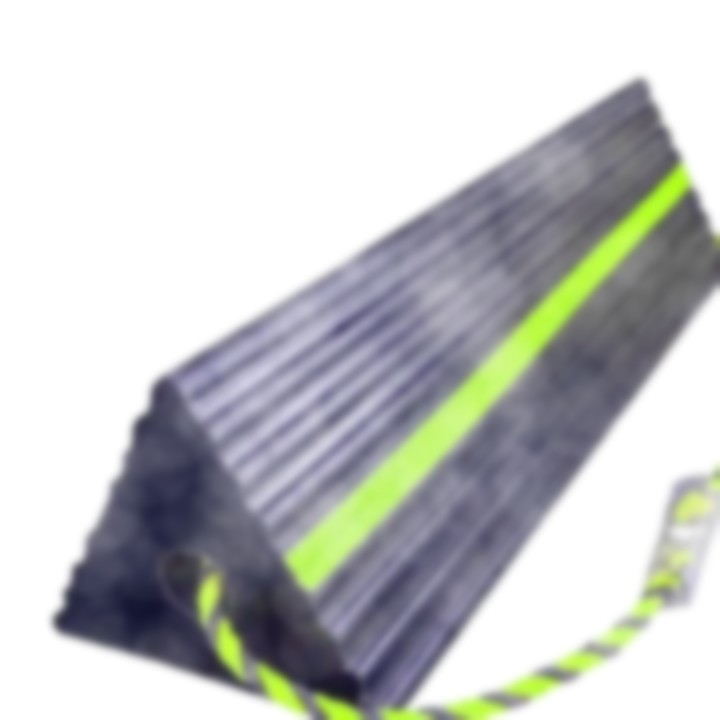chock: (3, 62, 720, 720)
